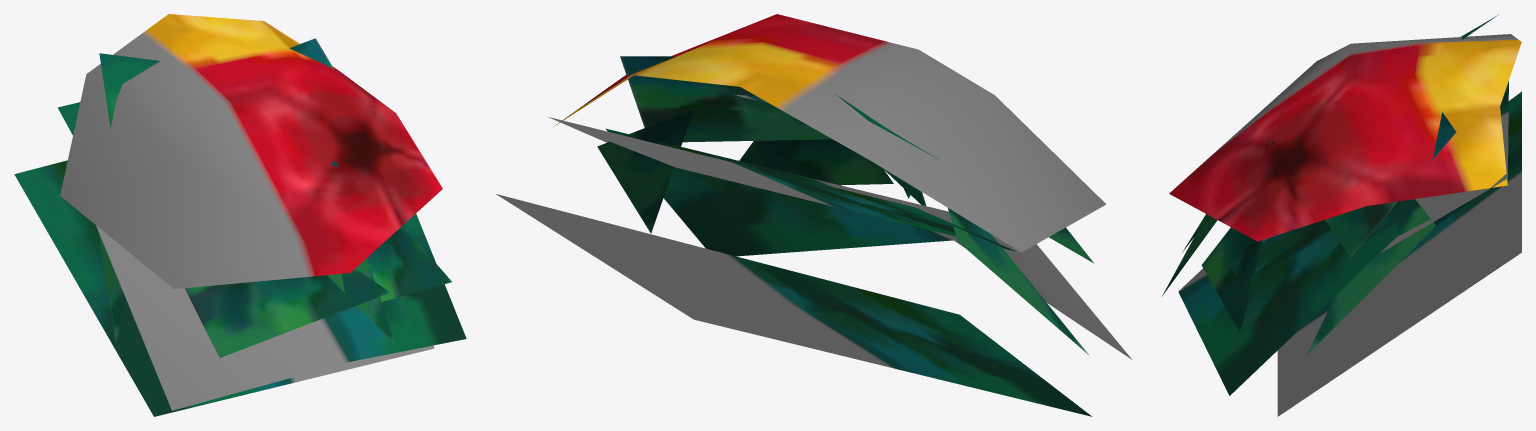
Rendered from fg_bushA_2_s.dae.
The picture shows the model from 3 angles, left to right: view 1: azimuth 30°, elevation 25°; view 2: azimuth 150°, elevation 25°; view 3: azimuth 270°, elevation 25°; orthographic projection. The views are drawn at different scales.
Parts seen in each view (by area): view 1: fg_bushA_2_s; view 2: fg_bushA_2_s; view 3: fg_bushA_2_s.
Part boxes in pixels (x1,y1,x2,y2): fg_bushA_2_s: (14, 14, 466, 416); fg_bushA_2_s: (496, 14, 1131, 416); fg_bushA_2_s: (1162, 15, 1521, 416).
Size of the model in its own units: 42.31 by 35.32 by 38.65.
1 material, 1 textured.
